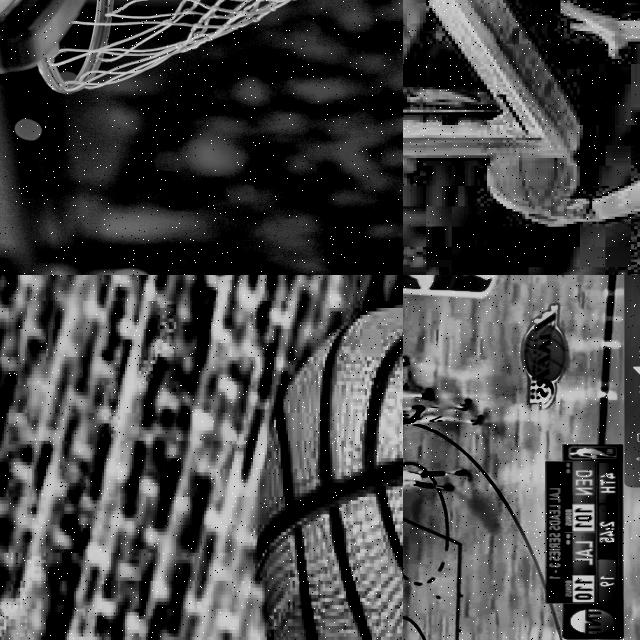Basketball: (255, 308, 403, 640), (484, 158, 576, 218)
